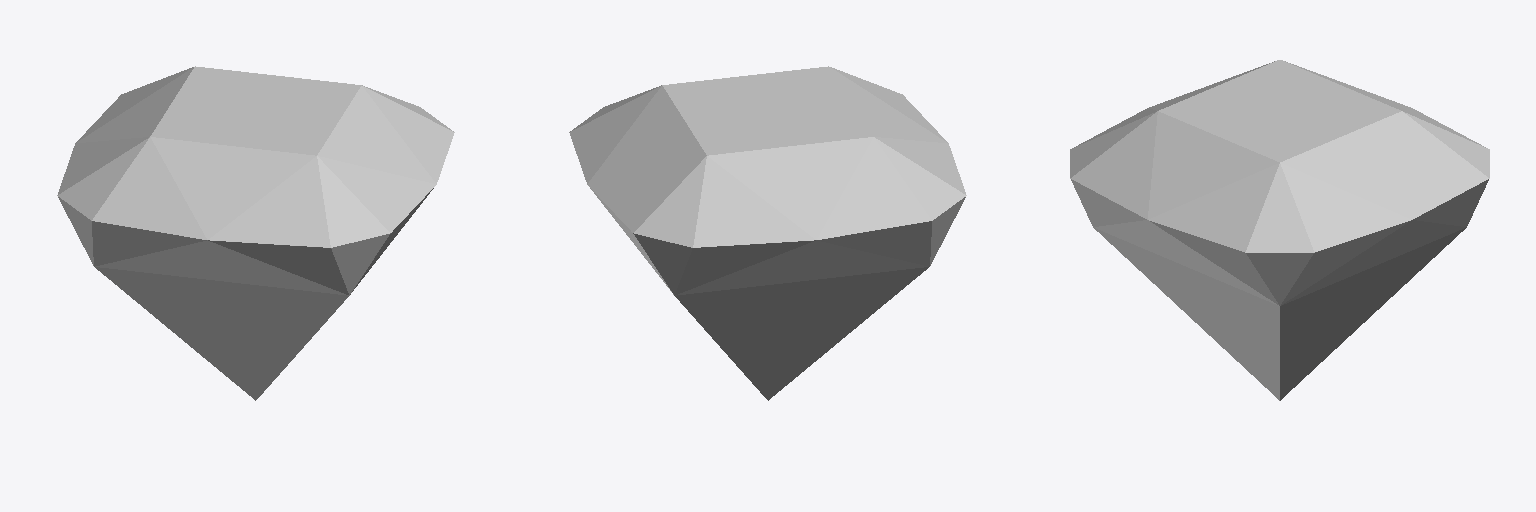
The model's file is 4-mazarin-cut.obj.
3 renders of one model, left to right at view 1: azimuth 30°, elevation 25°; view 2: azimuth 150°, elevation 25°; view 3: azimuth 270°, elevation 25°, orthographic.
Visible parts, largest first — view 1: gem_Cylinder; view 2: gem_Cylinder; view 3: gem_Cylinder.
Boxes of the visible parts, x1=… form: gem_Cylinder: x1=57, y1=66, x2=454, y2=400; gem_Cylinder: x1=569, y1=66, x2=966, y2=400; gem_Cylinder: x1=1070, y1=60, x2=1489, y2=400.
Bounding box in the file's own units: 17.17 × 13.1 × 17.17.